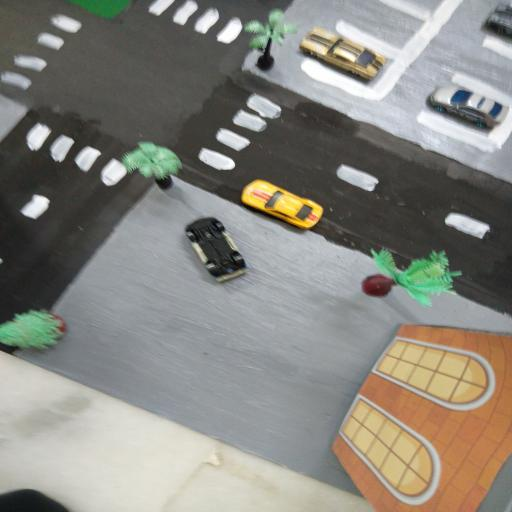car crash: (174, 213, 259, 283)
